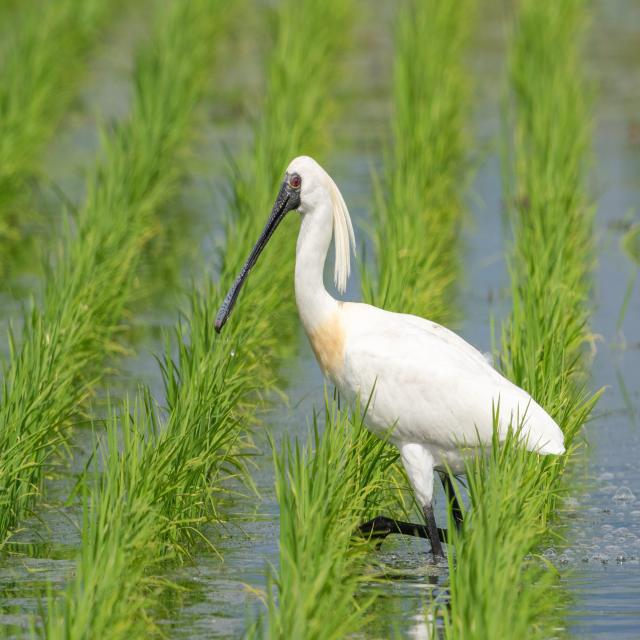Black-faced spoonbill: (215, 157, 564, 556)
